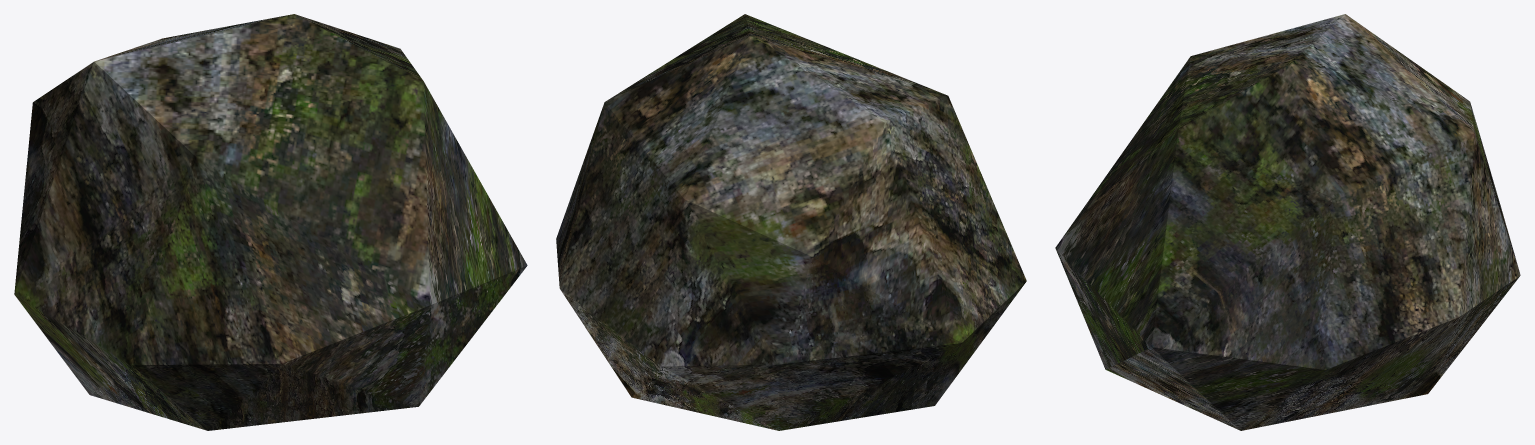
The model's file is rock_rough_mossy_coverstone_b.fbx.
3 views of the same model, side by side, from view 1: azimuth 30°, elevation 25°; view 2: azimuth 150°, elevation 25°; view 3: azimuth 270°, elevation 25° (orthographic). The views are drawn at different scales.
Parts seen in each view (by area): view 1: Cube; view 2: Cube; view 3: Cube.
Part boxes in pixels (<box>): Cube: <box>14,14,527,430</box>; Cube: <box>556,14,1026,430</box>; Cube: <box>1055,14,1520,430</box>.
Bounding box in the file's own units: 31.74 × 25.84 × 32.14.
